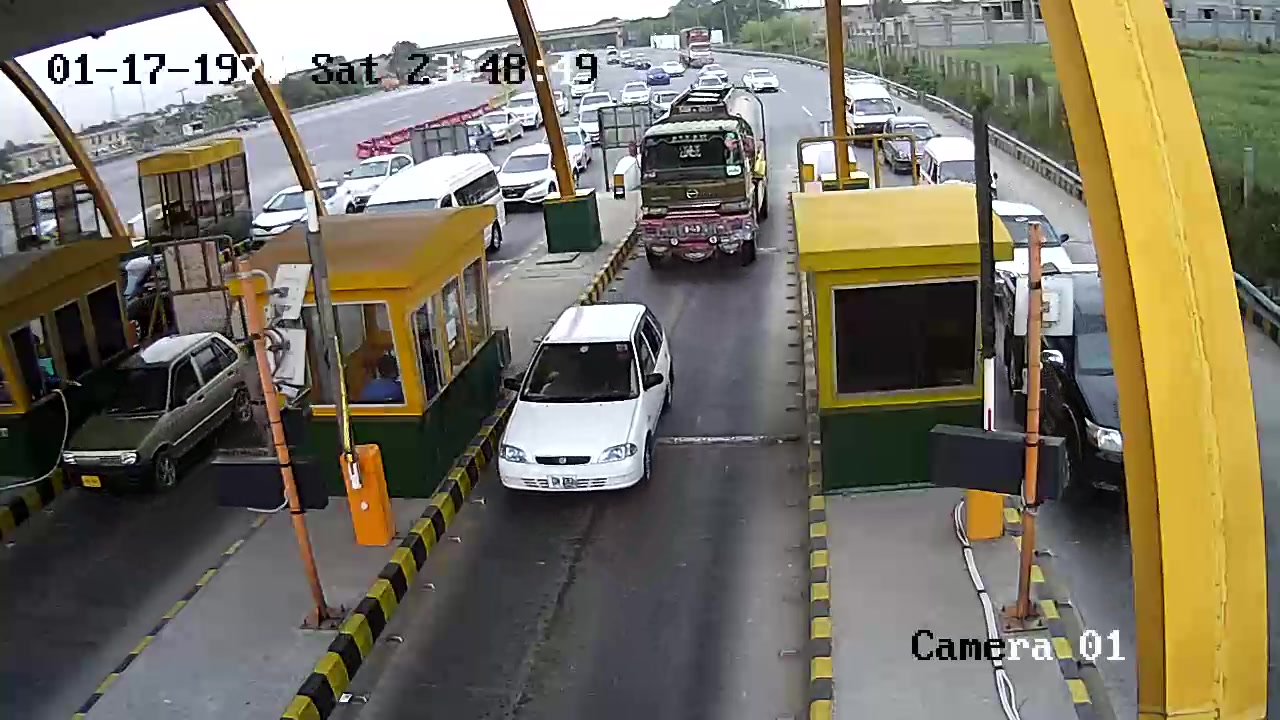F1: (491, 294, 683, 507)
